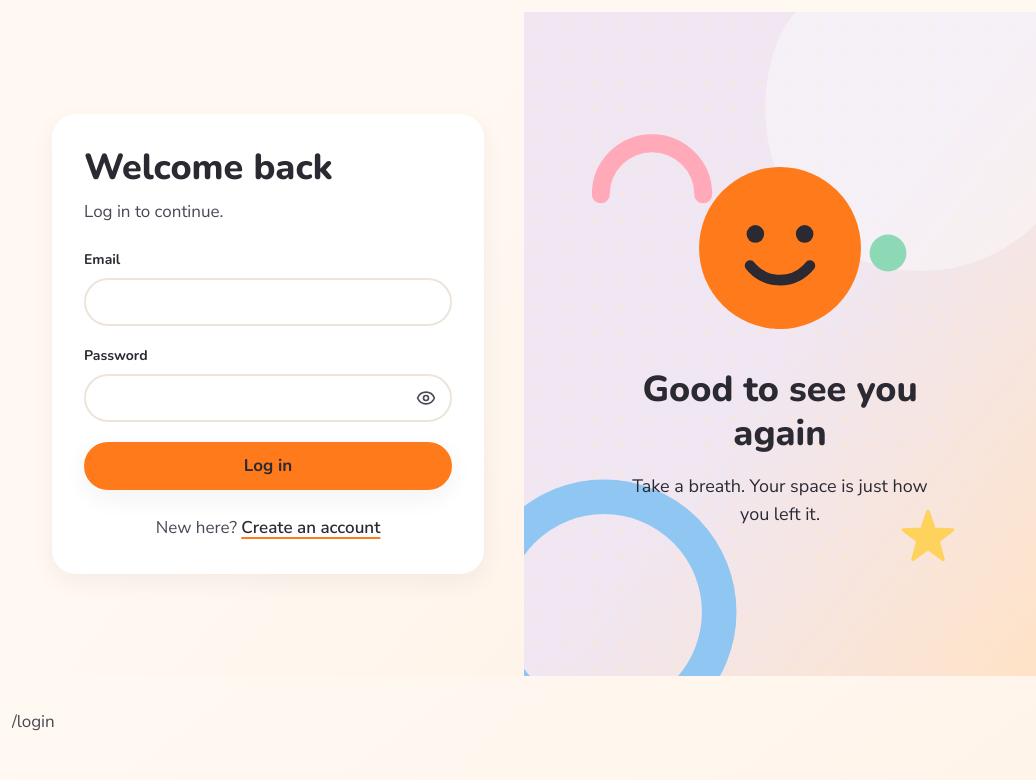
Test case: Login form › sends a admin to their own home (/admin)
Type "asha@college.edu" into the field labelled "Email" at (268, 302), box [84,278,452,326]
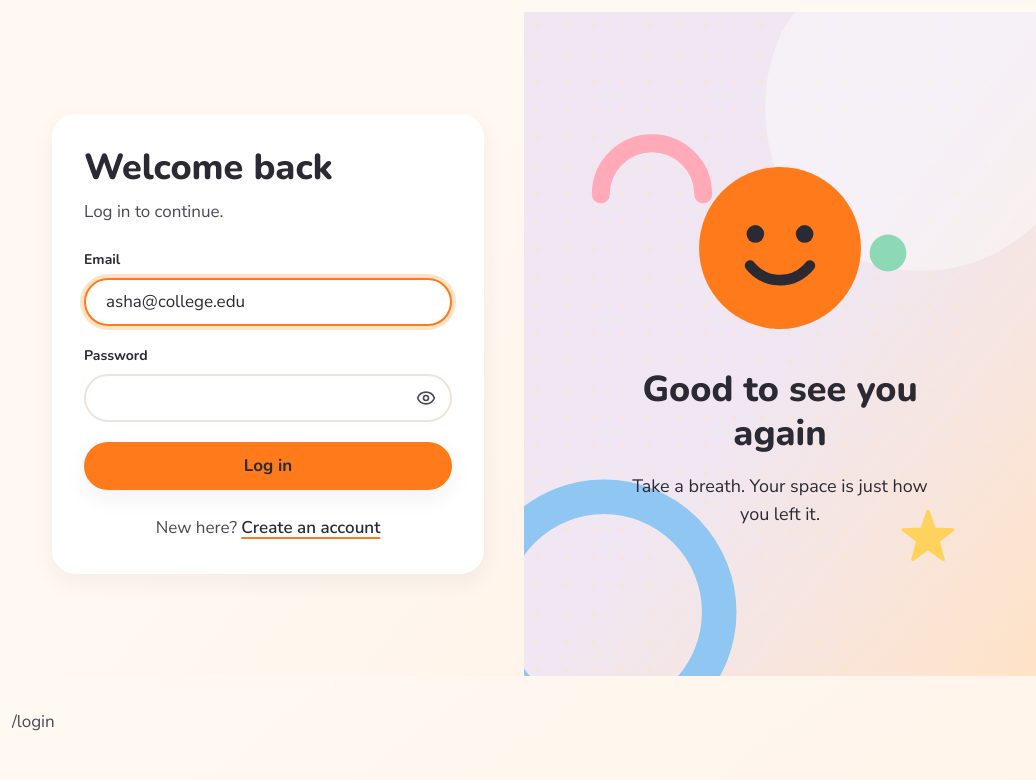
Type "secret123" into the password field labelled "Password" at (268, 398), box [84,374,452,422]
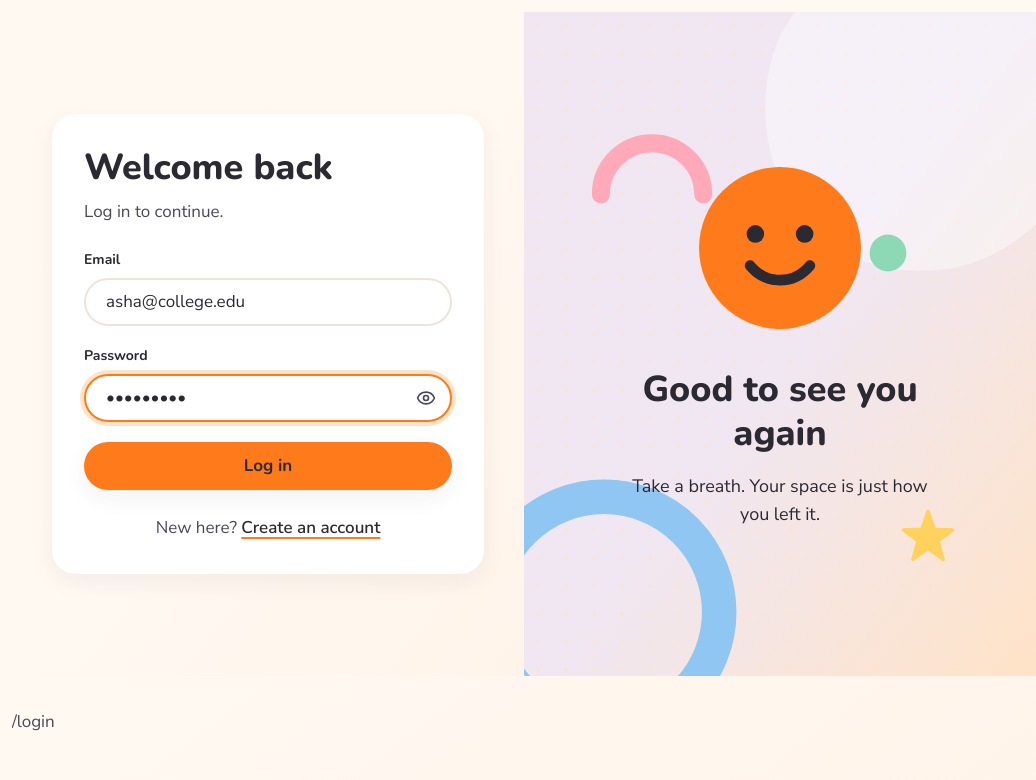
Click the button "Log in" at (268, 466), box [84,442,452,490]
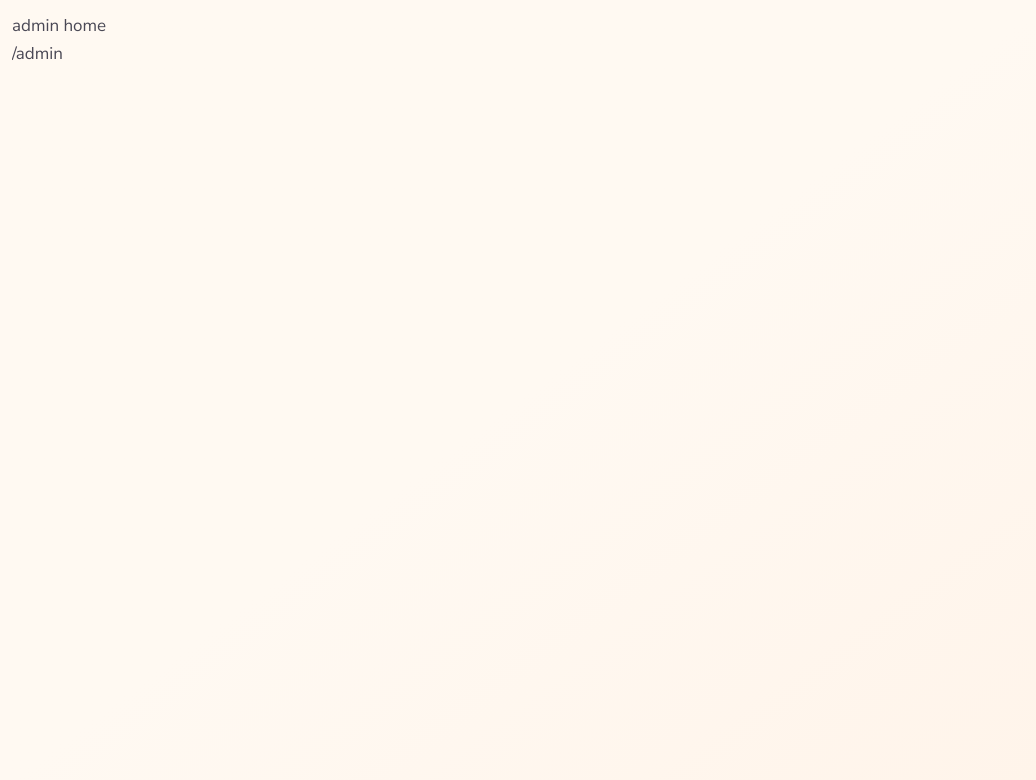
Expected: the text with test id "location" reads "/admin", [12,42,63,65]
Expected: the text "admin home" is shown, [12,14,106,37]
